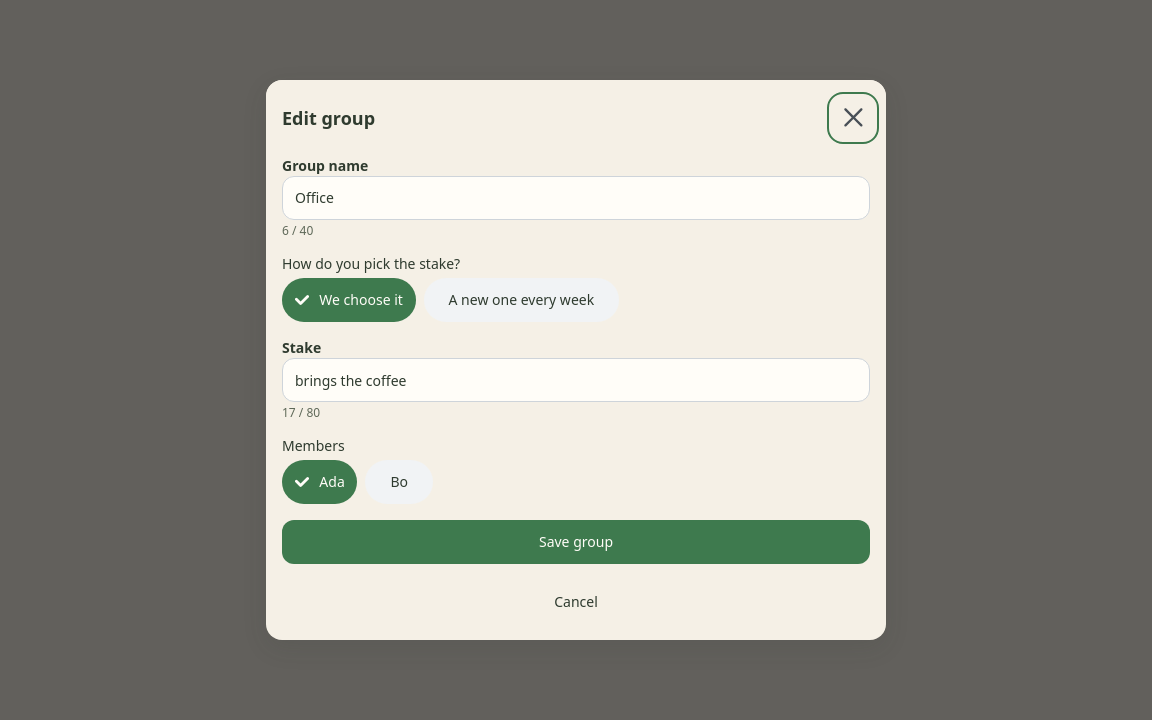
Test: F3-ST-02 RF-25 GroupDialog › keeps what was typed when saving fails
The image size is (1152, 720).
Click the button "Save group": (576,542) [282, 520, 870, 564]
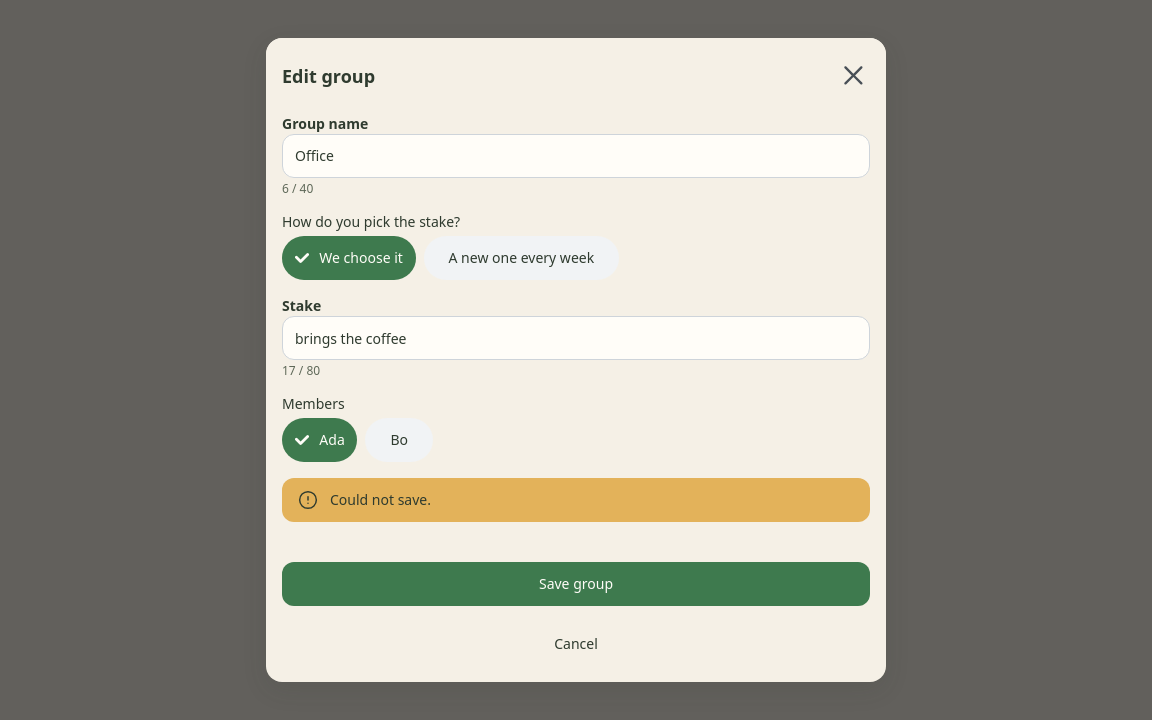
Expected: the field labelled "Group name" holds "Office", [282, 134, 870, 178]
Expected: the text "Could not save." is shown, [330, 490, 431, 510]
